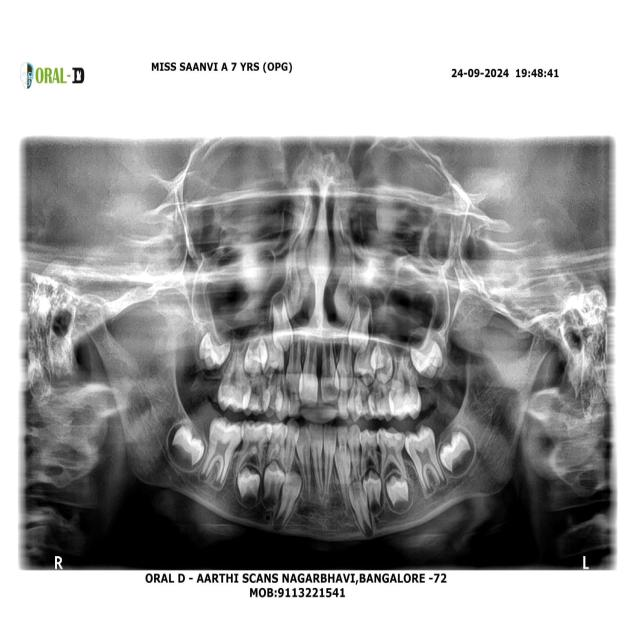Premolars: (360, 425, 382, 477)
